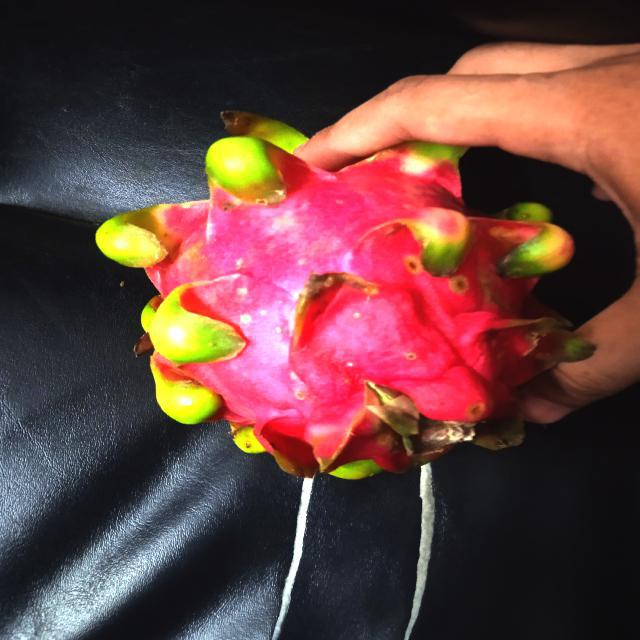do: (94, 105, 604, 484)
